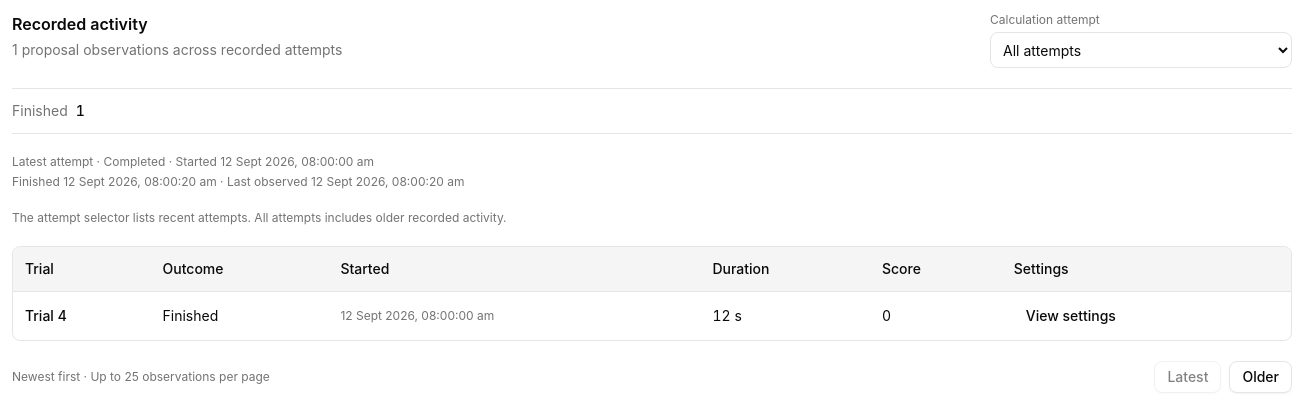
Scenario: durable study activity › filters actual executions and resets the page without displaying internal IDs
The width and height of the screenshot is (1304, 410).
Click the button "Older": (1261, 377) [1229,361,1292,393]
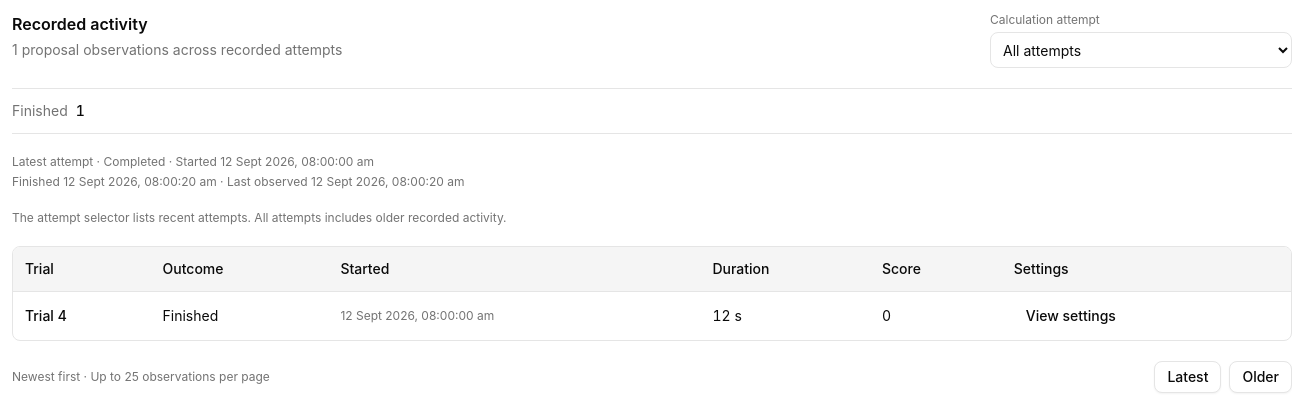
Select "12 Sept 2026, 07:43:20 am · Completed" in the dropdown labelled "Calculation attempt": (1141, 50) [990,32,1292,68]
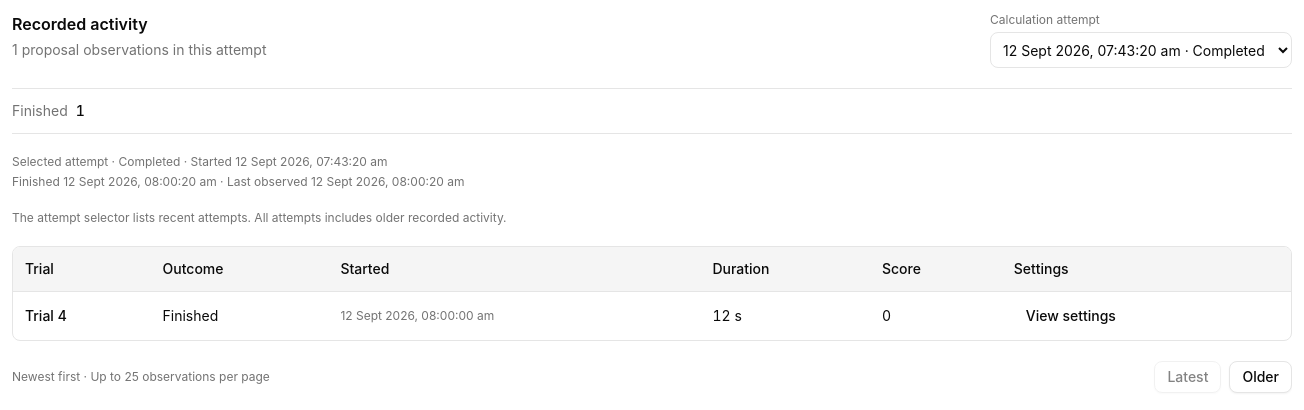
Expected: the text "All attempts includes older recorded activity" is shown, [12,210,507,225]
Now the text "1 proposal observations in this attempt" is shown, box [12,40,266,60]
